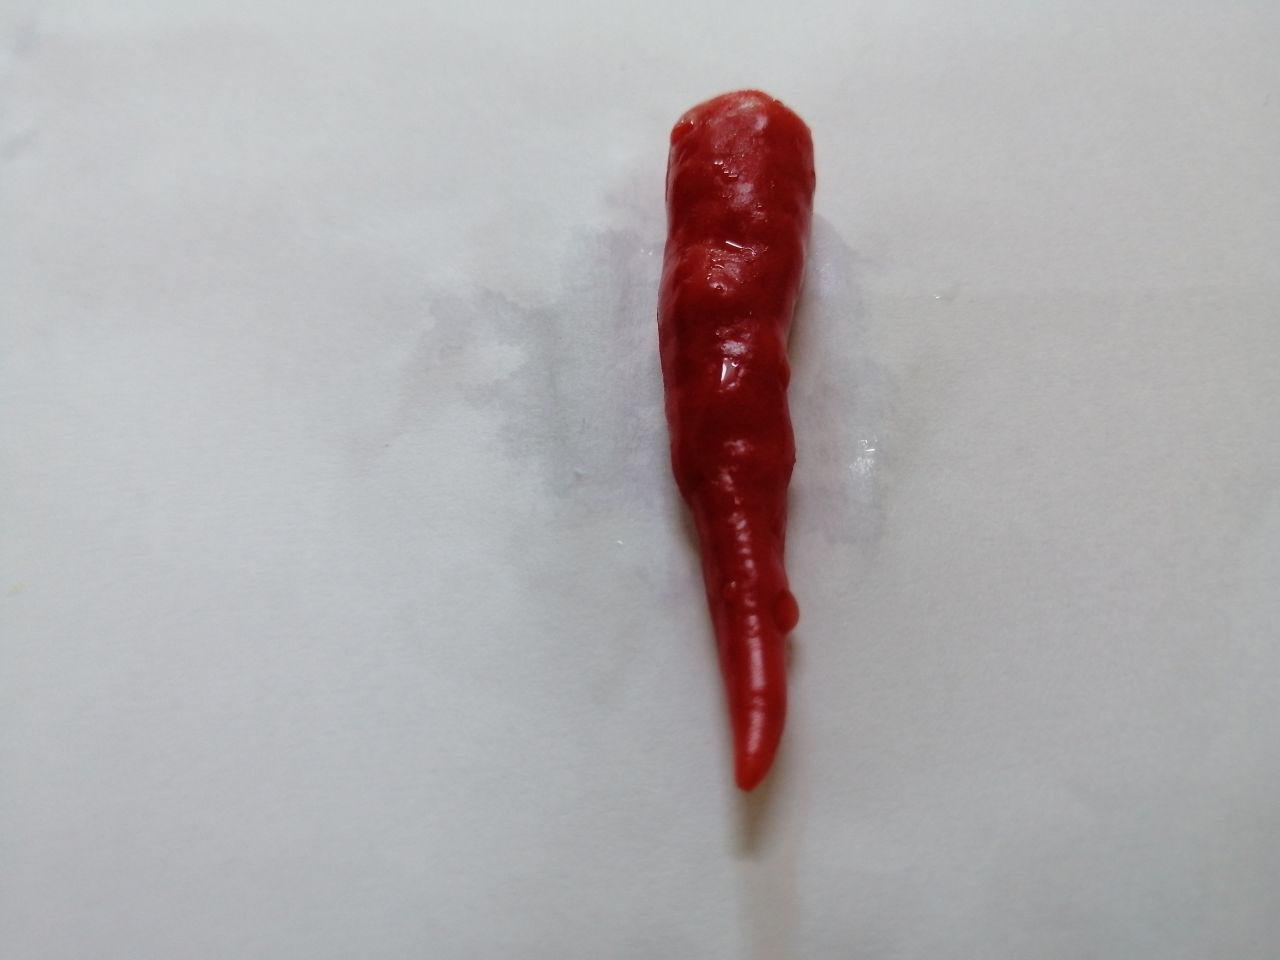lada merah: (633, 74, 844, 796)
